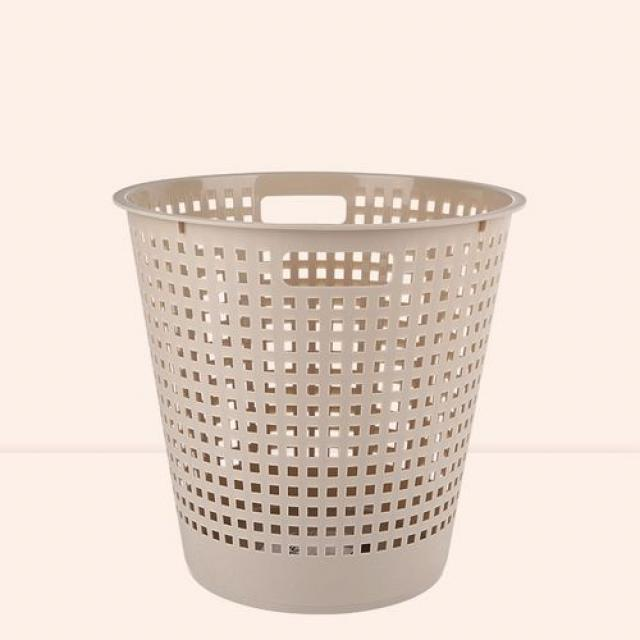Dustbin: (107, 163, 536, 622)
